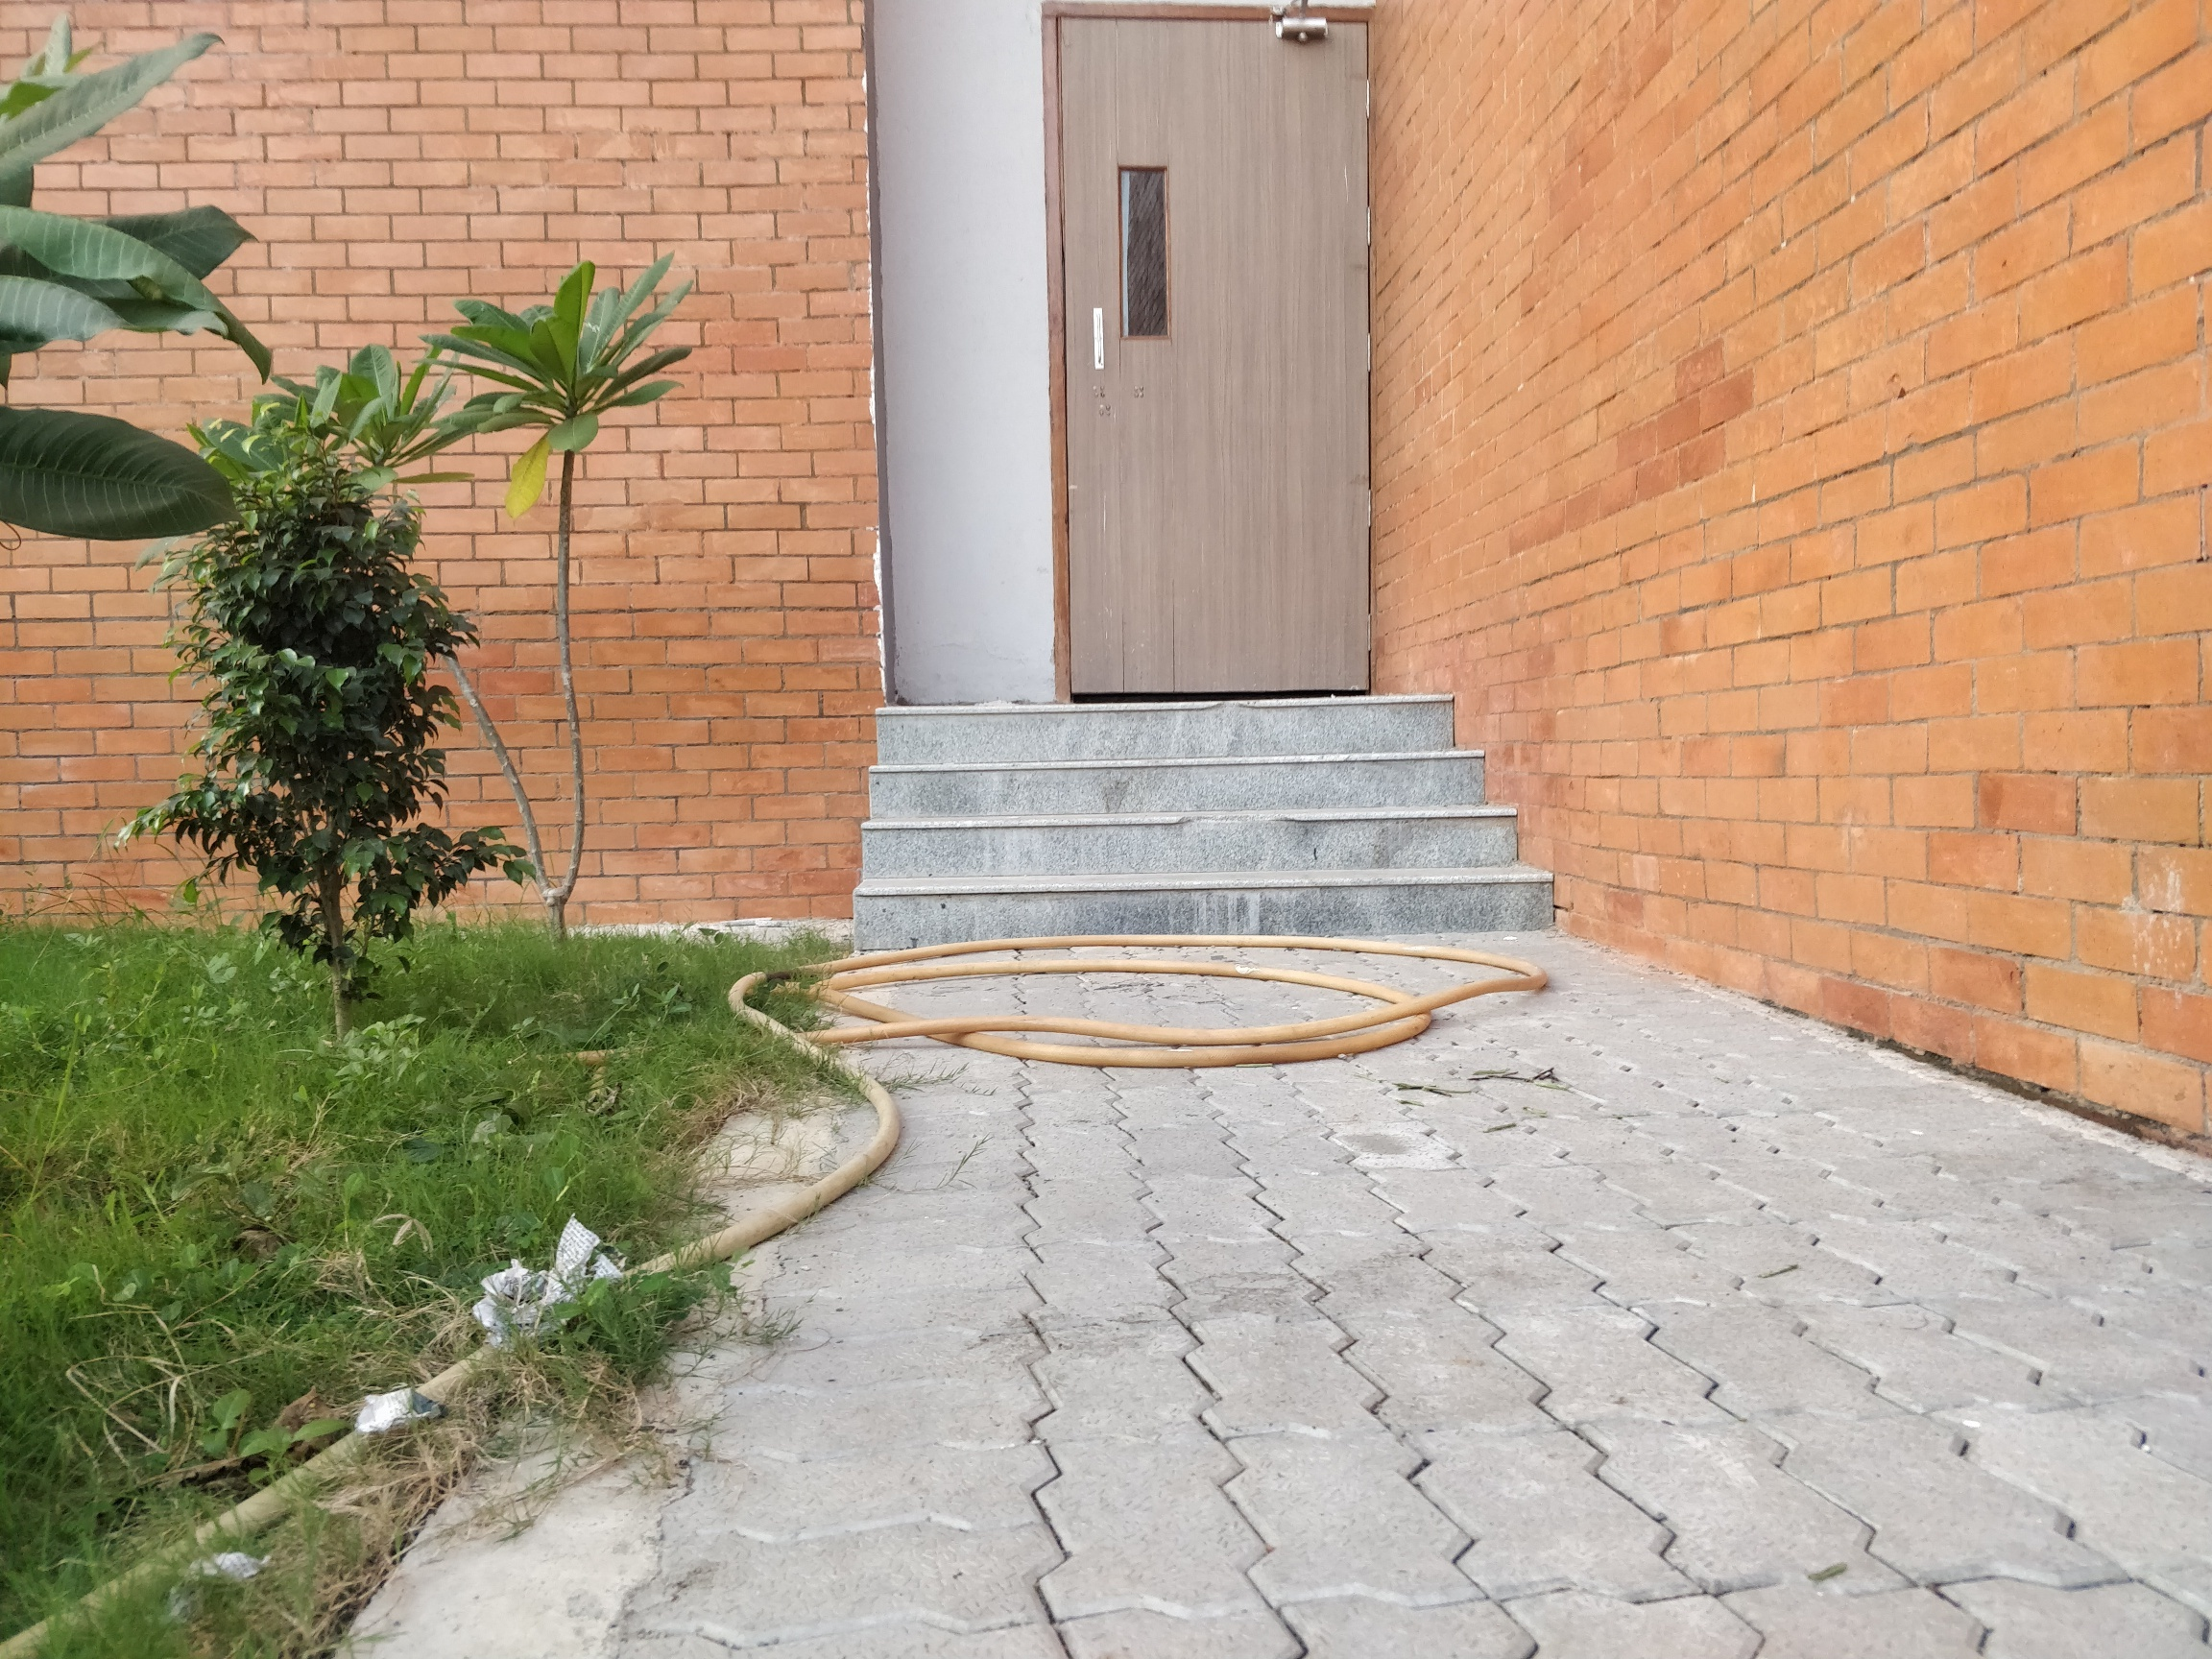stairs_up: (848, 702, 1571, 946)
